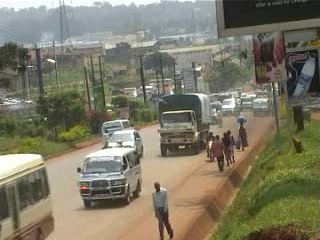Car: (103, 127, 146, 163), (216, 96, 240, 116), (207, 101, 223, 128), (237, 96, 252, 111)
Motorcycle: (204, 136, 217, 161)
